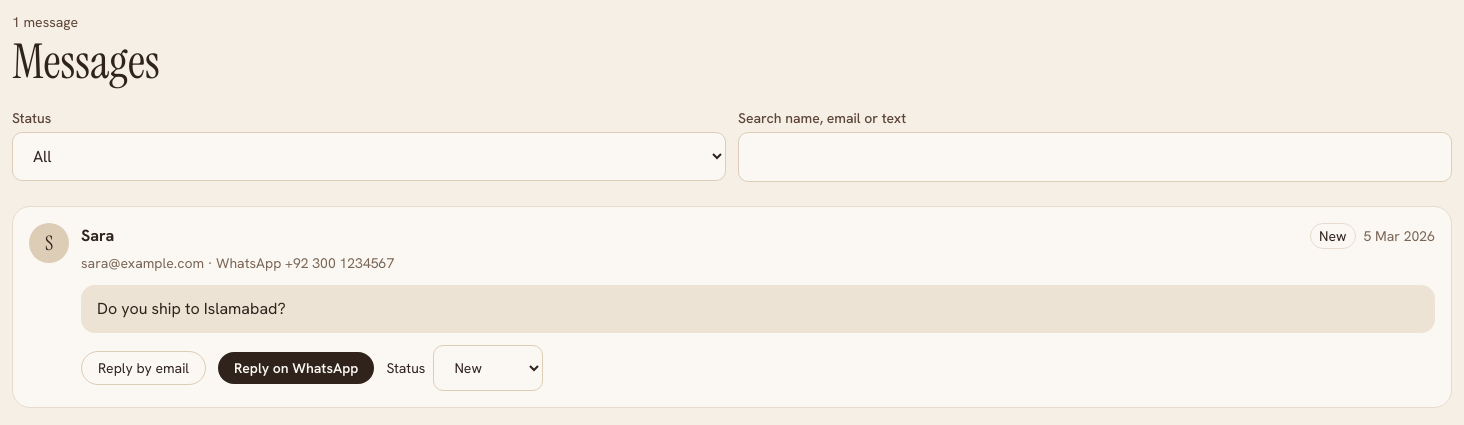
it: shows messages with reply links and changes their status
The image size is (1464, 425).
Expected: the text "Do you ship to Islamabad?" is shown, [81, 285, 1435, 333]
Select "Replied" in the dropdown named "Status of the message from Sara": (488, 368) [433, 345, 543, 391]
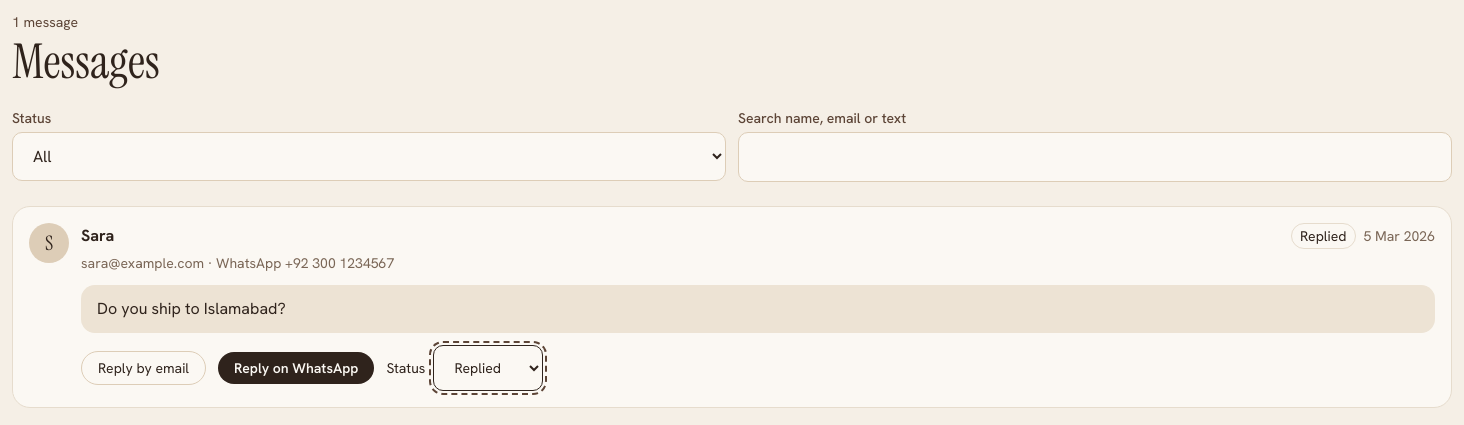
Now the text "Replied" is shown, box [1291, 223, 1356, 249]
